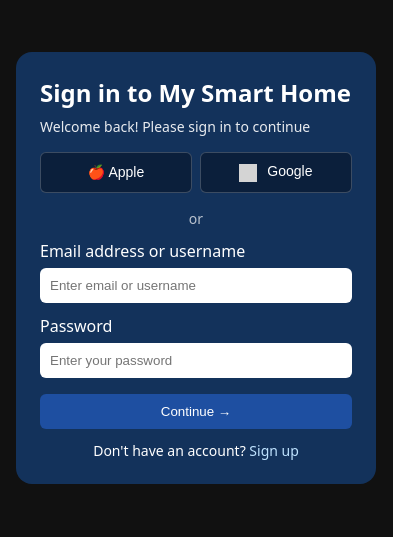
Login Component › OAuth Login › handles Apple OAuth errors
Click the button "🍎 Apple". click: [116, 172]
box: [40,152,192,193]
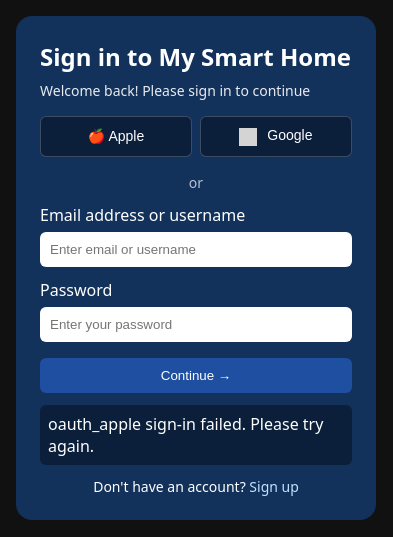
Expected: the text "oauth_apple sign-in failed. Please try again." is shown, [40,405,352,465]
